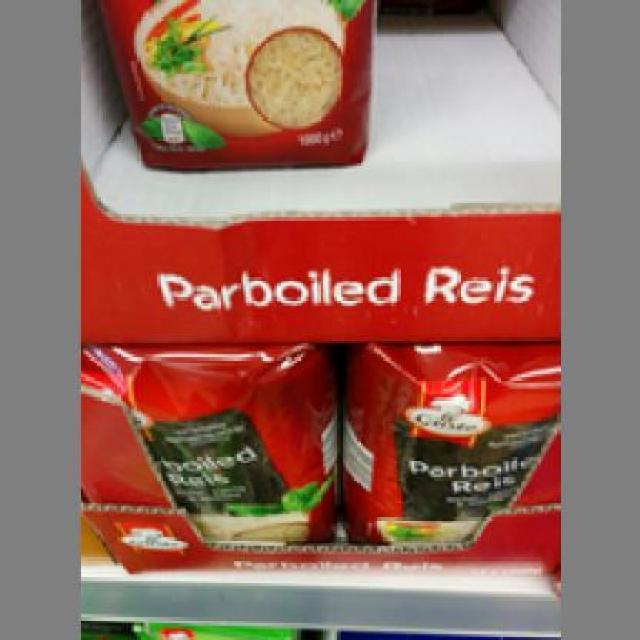Rice: (80, 343, 337, 543), (94, 0, 374, 169), (340, 340, 560, 546)
